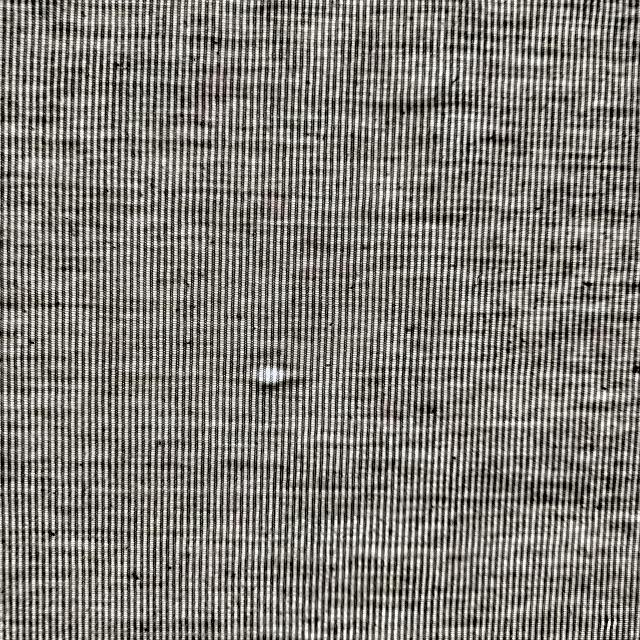Hole: (247, 357, 298, 396)
